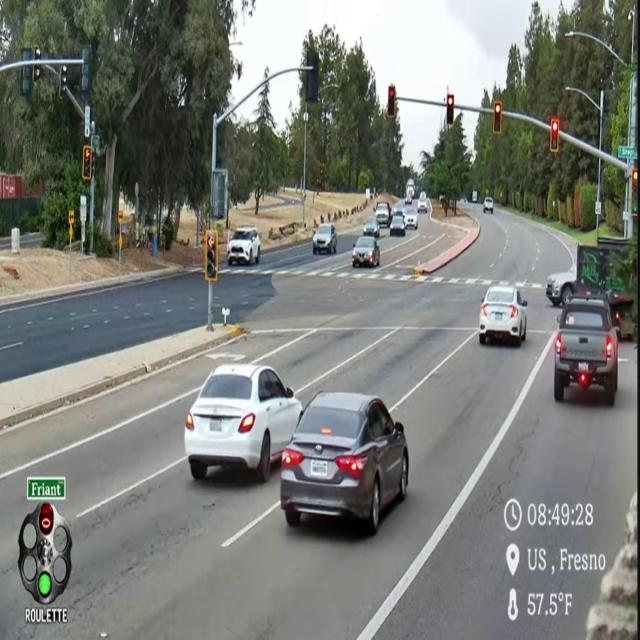car: (280, 392, 408, 535), (184, 364, 301, 481), (554, 296, 617, 406), (479, 286, 527, 346), (228, 225, 260, 265), (546, 266, 576, 306), (352, 236, 379, 267), (313, 224, 336, 254), (375, 202, 391, 226), (363, 217, 380, 238), (390, 213, 405, 236), (404, 211, 417, 229), (392, 204, 406, 219), (417, 192, 427, 213), (483, 198, 493, 214), (405, 191, 412, 204)
traffic signal: (204, 229, 218, 282), (306, 51, 319, 103), (81, 46, 91, 94), (82, 145, 93, 181), (21, 66, 32, 99), (58, 65, 68, 99), (550, 119, 559, 153), (387, 85, 396, 119), (493, 101, 502, 135), (446, 94, 454, 126), (632, 168, 637, 216), (32, 64, 41, 82), (632, 168, 637, 188)
truck: (546, 237, 633, 338), (572, 237, 634, 339)
